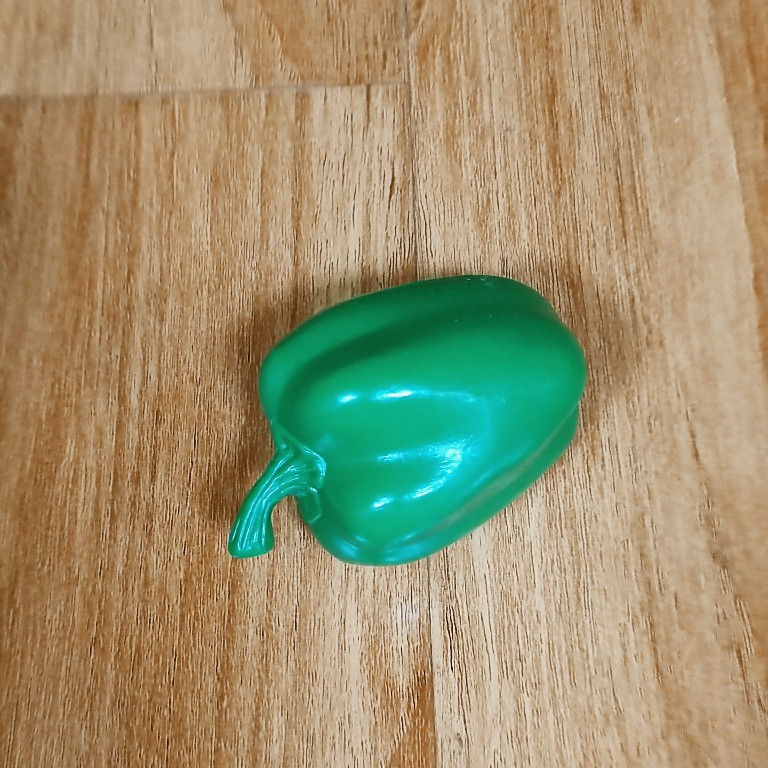fruit_pepper: (223, 269, 593, 574)
